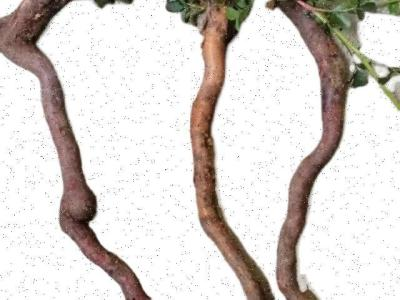Root: (0, 0, 150, 300), (190, 0, 273, 300), (267, 0, 348, 300)
